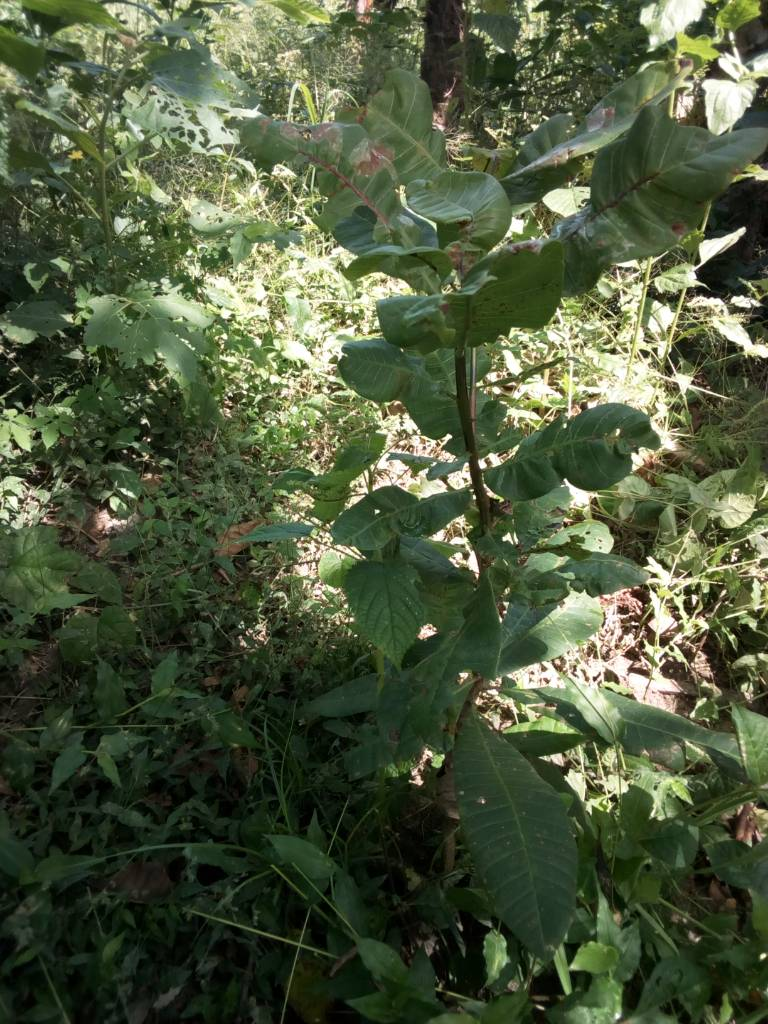Helopeltis anacardii: (577, 122, 763, 263), (488, 402, 657, 499), (369, 269, 496, 352), (330, 485, 471, 557), (405, 169, 515, 246)
